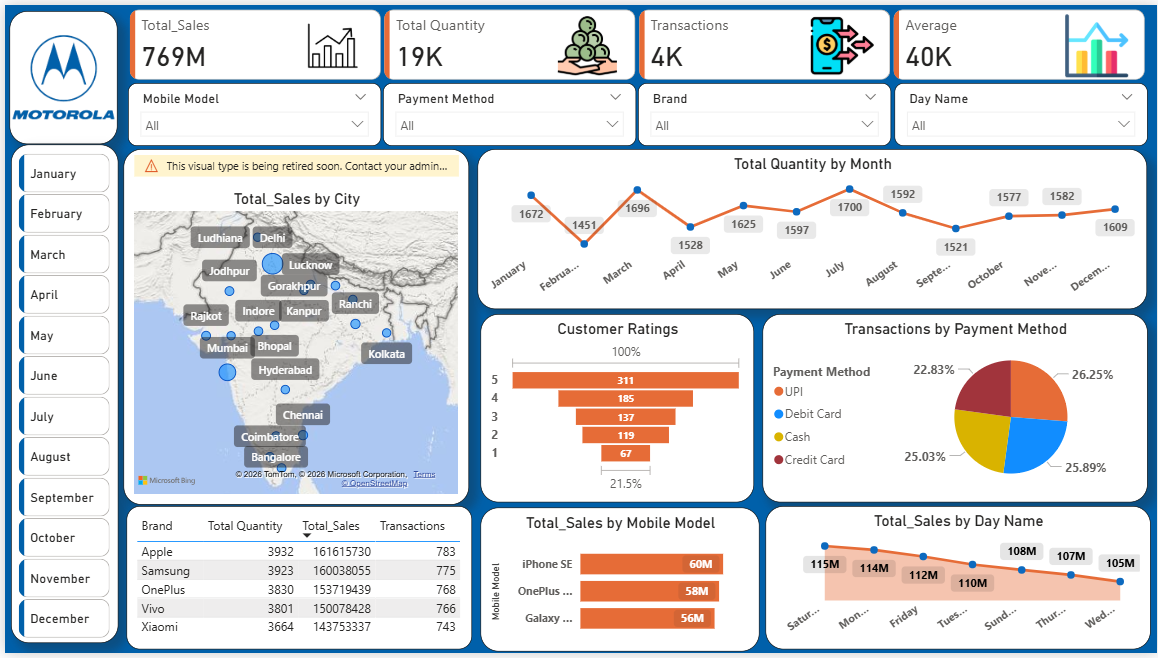

The dashboard page shown, as its layout file describes it:
{"tool":"powerbi","page":{"name":"Page 1","canvas":[1280,720],"ordinal":0},"visuals":[{"type":"shape","box":[4.4,6.7,120,148],"z":0},{"type":"image","box":[8.3,21.7,113.3,116.7],"z":1000},{"type":"shape","box":[6.3,155.6,119,554],"z":2000},{"type":"advancedSlicerVisual","fields":{"Values":["Sales_Data.Date.Variation.Date Hierarchy.Month"]},"box":[10,160,111.1,548],"z":3000},{"type":"cardVisual","fields":{"Data":["Sales_Data.Total_Sales","Sales_Data.Total Quantity","Sales_Data.Transactions","Sales_Data.Average"]},"box":[133,5,1140.5,83],"z":4000},{"type":"map","fields":{"Category":["Sales_Data.City"],"Size":["Sales_Data.Total_Sales"]},"box":[132,160,384.1,395.2],"z":5000},{"type":"lineChart","fields":{"Category":["Sales_Data.Date.Variation.Date Hierarchy.Month","Sales_Data.Date.Variation.Date Hierarchy.Day"],"Y":["Sales_Data.Total Quantity"]},"box":[525,160,744,178],"z":6000},{"type":"clusteredBarChart","fields":{"Category":["Sales_Data.Mobile Model"],"Y":["Sales_Data.Total_Sales"]},"box":[528,558,310,160],"z":7000},{"type":"pieChart","fields":{"Category":["Sales_Data.Payment Method"],"Y":["Sales_Data.Transactions"]},"box":[842,344,428,209.5],"z":8000},{"type":"funnel","title":"Customer Ratings","fields":{"Category":["Sales_Data.Customer Ratings"],"Y":["CountNonNull(Sales_Data.Customer Ratings)"]},"box":[529,344,304,209],"z":9000},{"type":"areaChart","fields":{"Category":["Sales_Data.Day Name"],"Y":["Sales_Data.Total_Sales"]},"box":[845,557,428,159],"z":10000},{"type":"tableEx","fields":{"Values":["Sales_Data.Brand","Sales_Data.Total Quantity","Sales_Data.Total_Sales","Sales_Data.Transactions"]},"box":[135,557,384,159],"z":11000},{"type":"slicer","fields":{"Values":["Sales_Data.Mobile Model"]},"box":[136,87.3,281,70],"z":12000},{"type":"slicer","fields":{"Values":["Sales_Data.Payment Method"]},"box":[420,87.3,281,69.8],"z":12001},{"type":"slicer","fields":{"Values":["Sales_Data.Brand"]},"box":[703,87.3,281,69.8],"z":12002},{"type":"slicer","fields":{"Values":["Sales_Data.Day Name"]},"box":[988.9,87,281,69.8],"z":12003}]}

Visuals, with their boxes in screenshot pixels (x1, y1, x2, y2), scaled from the page's 1280x720 canvas onto the 1158x658 screenshot:
shape: x1=4, y1=6, x2=113, y2=141
image: x1=8, y1=20, x2=110, y2=126
shape: x1=6, y1=142, x2=113, y2=648
advancedSlicerVisual - Sales_Data.Date.Variation.Date Hierarchy.Month: x1=9, y1=146, x2=110, y2=647
cardVisual - Sales_Data.Total_Sales x Sales_Data.Total Quantity: x1=120, y1=5, x2=1152, y2=80
map - Sales_Data.City x Sales_Data.Total_Sales: x1=119, y1=146, x2=467, y2=507
lineChart - Sales_Data.Date.Variation.Date Hierarchy.Month x Sales_Data.Date.Variation.Date Hierarchy.Day: x1=475, y1=146, x2=1148, y2=309
clusteredBarChart - Sales_Data.Mobile Model x Sales_Data.Total_Sales: x1=478, y1=510, x2=758, y2=656
pieChart - Sales_Data.Payment Method x Sales_Data.Transactions: x1=762, y1=314, x2=1149, y2=506
"Customer Ratings" funnel: x1=479, y1=314, x2=754, y2=505
areaChart - Sales_Data.Day Name x Sales_Data.Total_Sales: x1=764, y1=509, x2=1152, y2=654
tableEx - Sales_Data.Brand x Sales_Data.Total Quantity: x1=122, y1=509, x2=470, y2=654
slicer - Sales_Data.Mobile Model: x1=123, y1=80, x2=377, y2=144
slicer - Sales_Data.Payment Method: x1=380, y1=80, x2=634, y2=144
slicer - Sales_Data.Brand: x1=636, y1=80, x2=890, y2=144
slicer - Sales_Data.Day Name: x1=895, y1=80, x2=1149, y2=143
